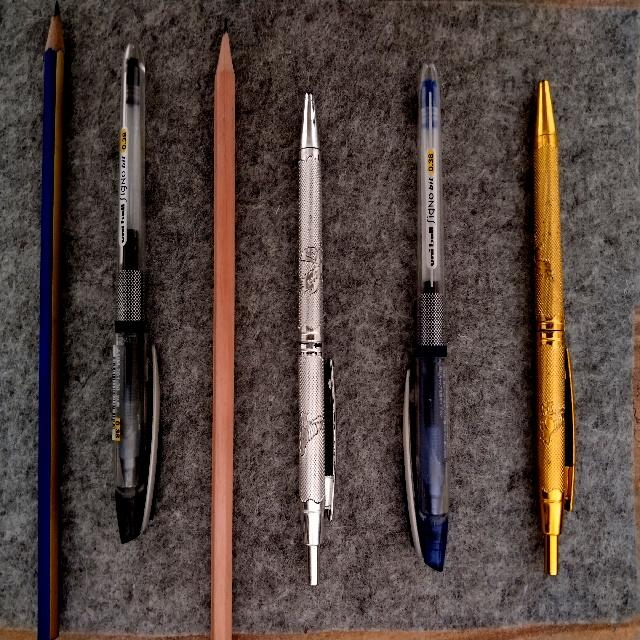pen: (112, 44, 158, 542), (403, 64, 448, 570)
pencil: (38, 2, 63, 639), (211, 28, 234, 639)
signature pen: (533, 81, 574, 574), (298, 93, 334, 584)
